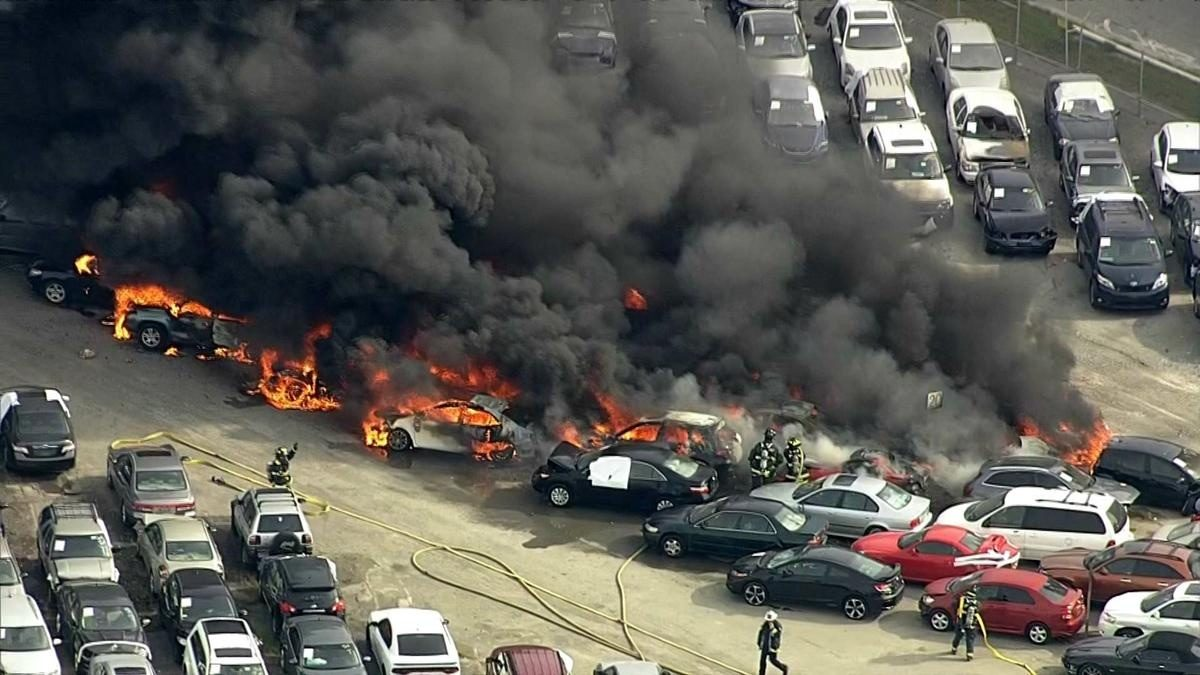fire: (131, 279, 684, 452)
